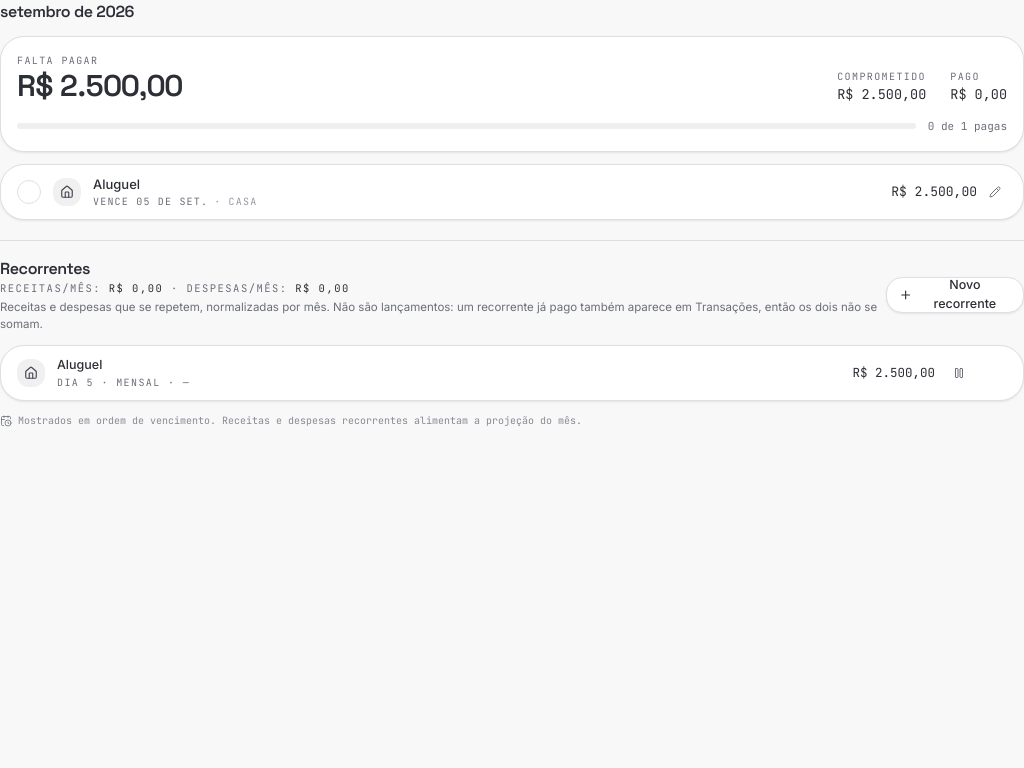
recurring form · apply to the current month › does not offer it when creating a new definition
expect the text "Falta pagar" is shown: met, box left=17, top=54, right=98, bottom=67
Click the button "Novo recorrente" at {"x": 955, "y": 295}, box left=886, top=277, right=1023, bottom=313
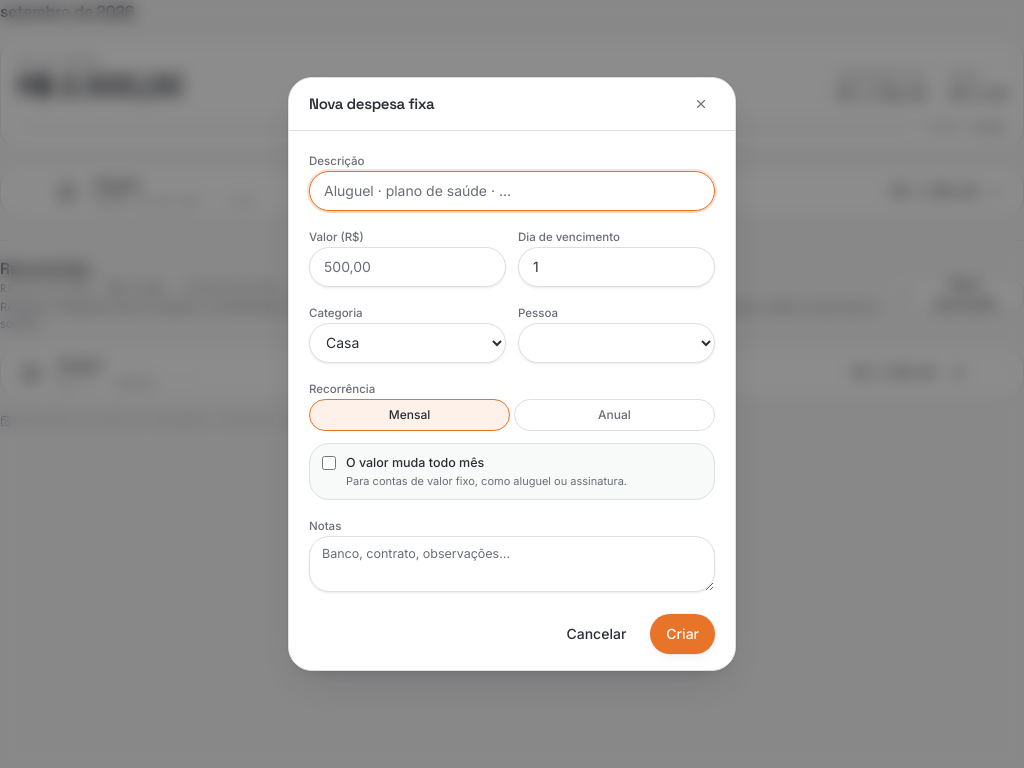
expect the dialog is shown: met, box left=288, top=77, right=736, bottom=671
